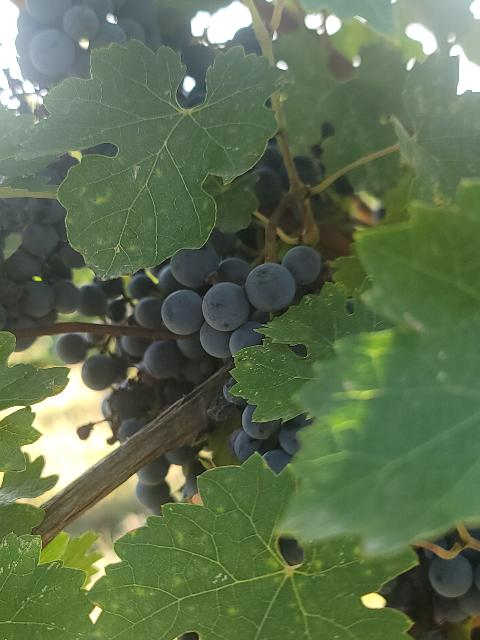grapes: (161, 244, 321, 358), (229, 405, 309, 472)
